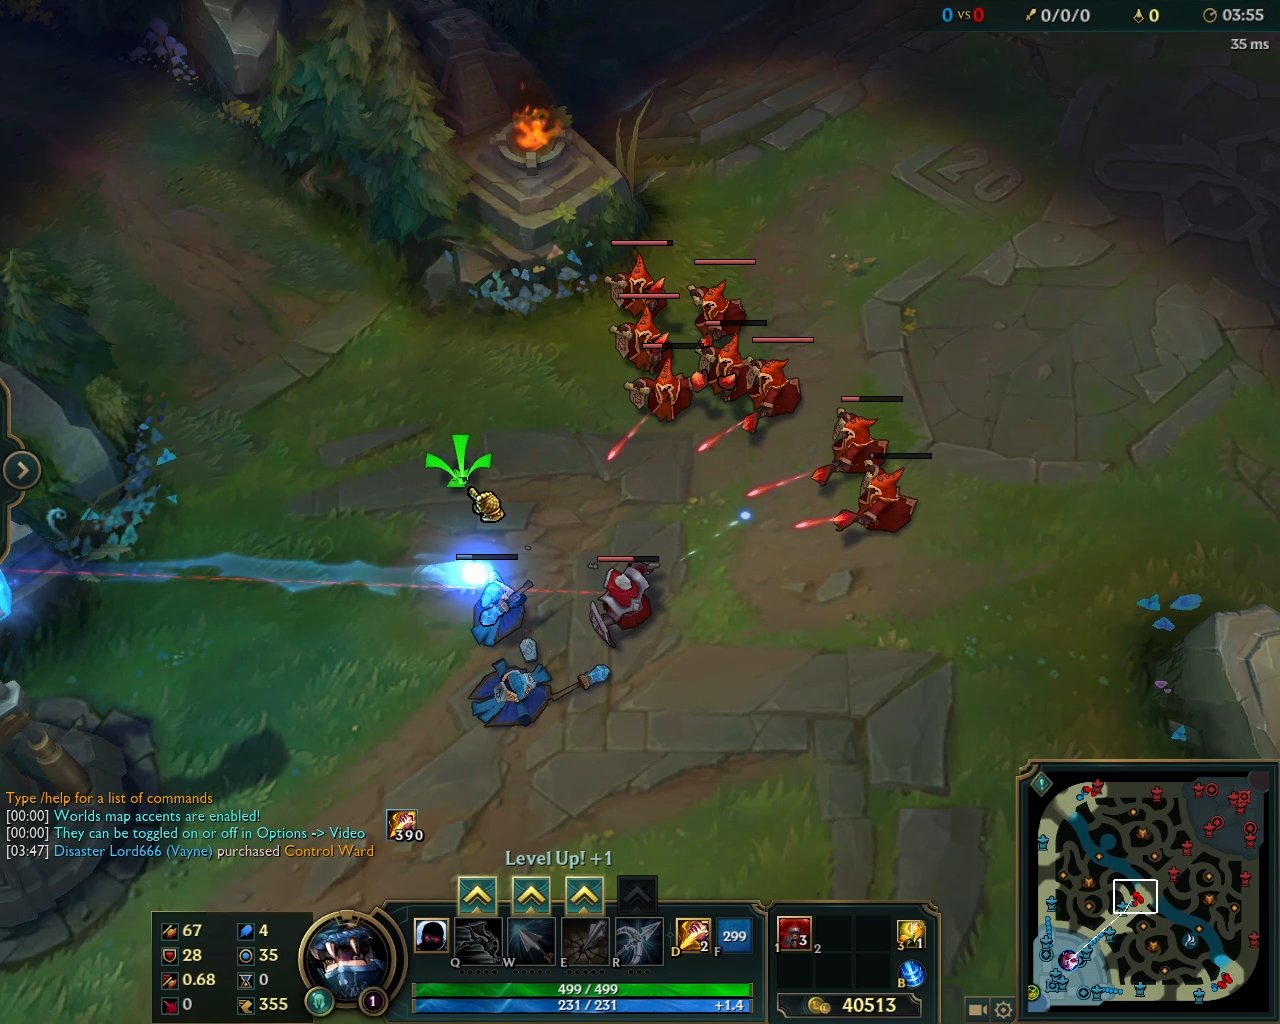EnemyMinion: (809, 395, 904, 489), (828, 453, 931, 538), (739, 338, 814, 436), (584, 556, 660, 652), (620, 344, 702, 428), (694, 321, 766, 408), (606, 294, 680, 376), (605, 240, 673, 330), (686, 259, 755, 340)
